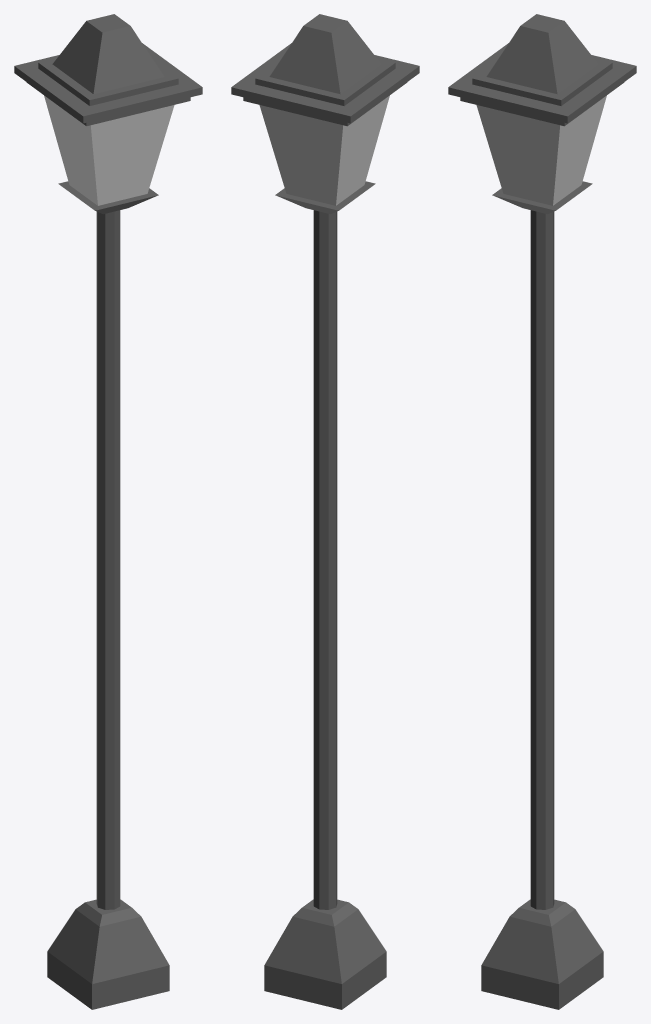
Rendered from lamp.glb.
3 views of the same model, side by side, from view 1: azimuth 30°, elevation 25°; view 2: azimuth 150°, elevation 25°; view 3: azimuth 330°, elevation 25° (orthographic).
Visible parts, largest first — view 1: Lowpoly lamp_105; view 2: Lowpoly lamp_105; view 3: Lowpoly lamp_105.
Boxes of the visible parts, left/top/right/bottom form: Lowpoly lamp_105: left=14, top=14, right=202, bottom=1009; Lowpoly lamp_105: left=231, top=14, right=419, bottom=1009; Lowpoly lamp_105: left=448, top=14, right=636, bottom=1009.
Bounding box in the file's own units: 0.614 × 4.72 × 0.614.
1 material, 1 textured.
